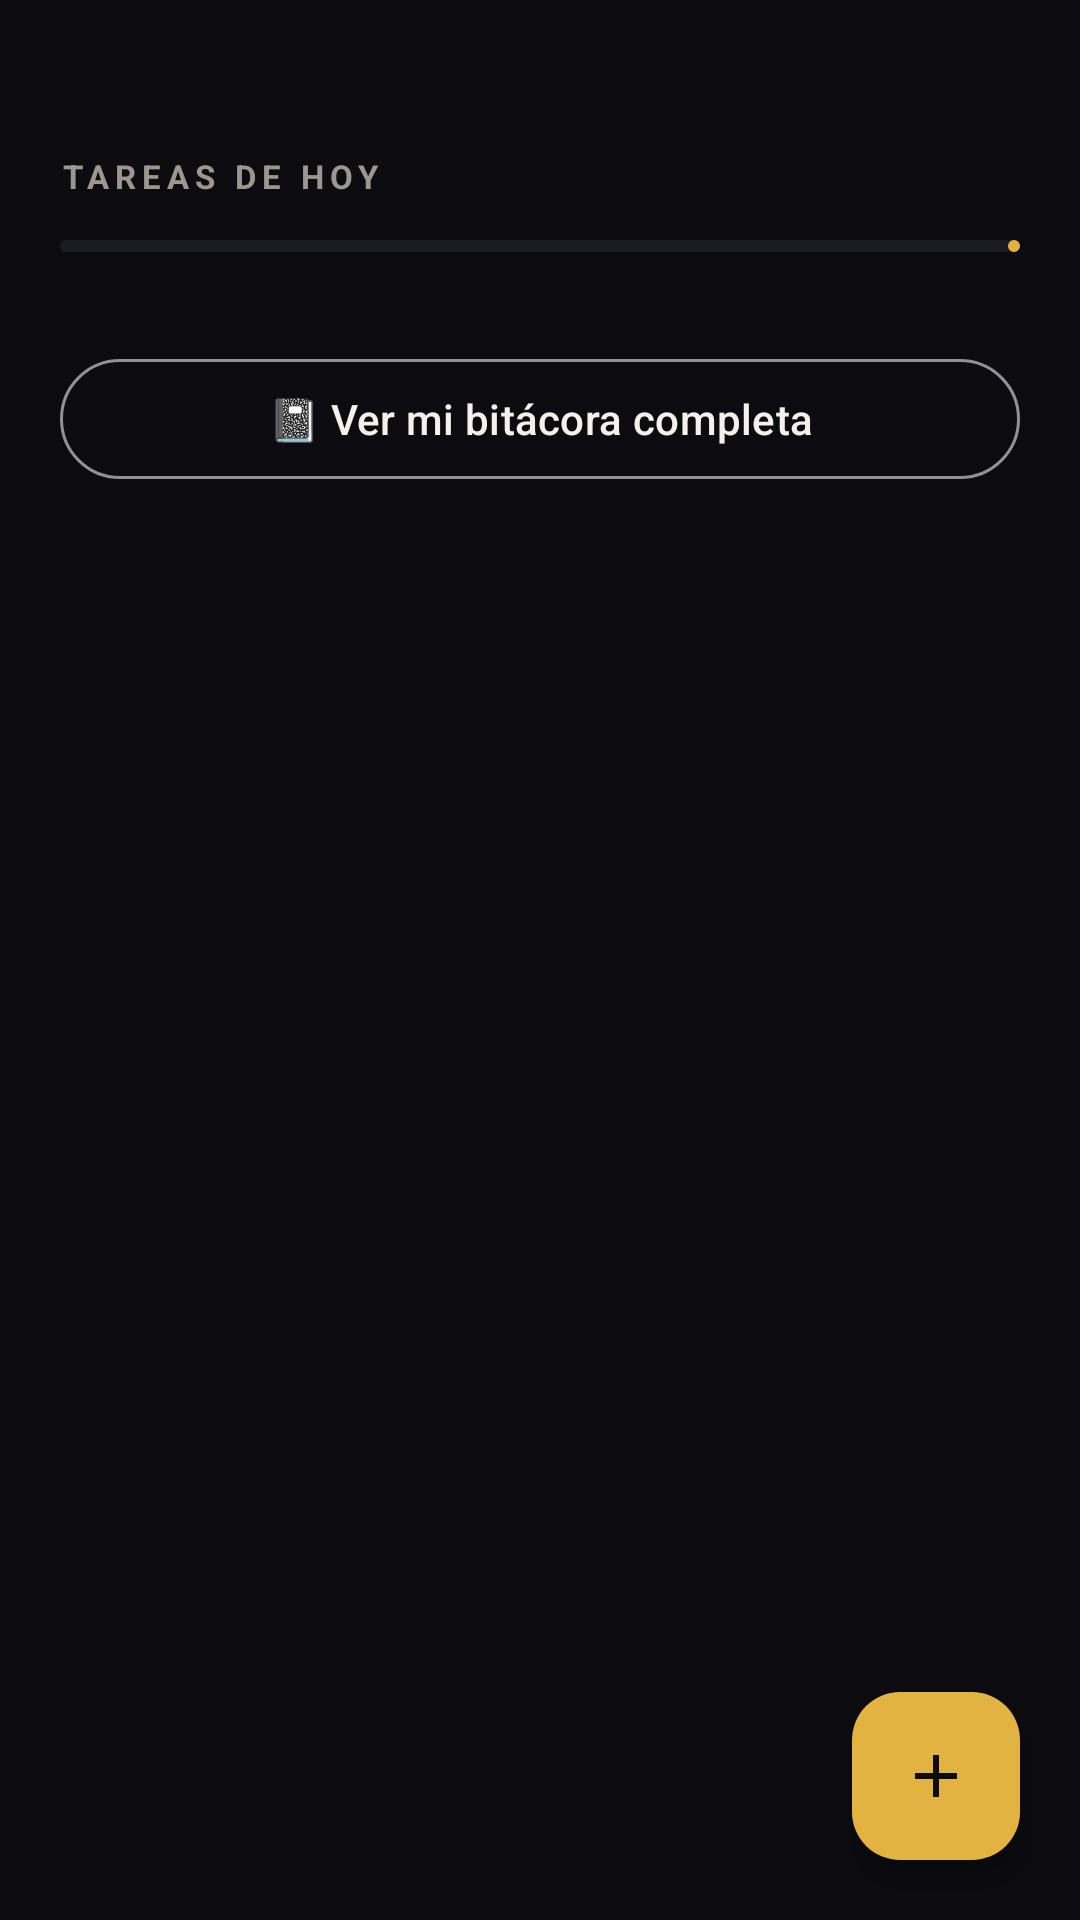

Point at icon controls on the screen. Image size 1080w x 1920h, points as [x,y].
Agregar tarea: [936,1776]
